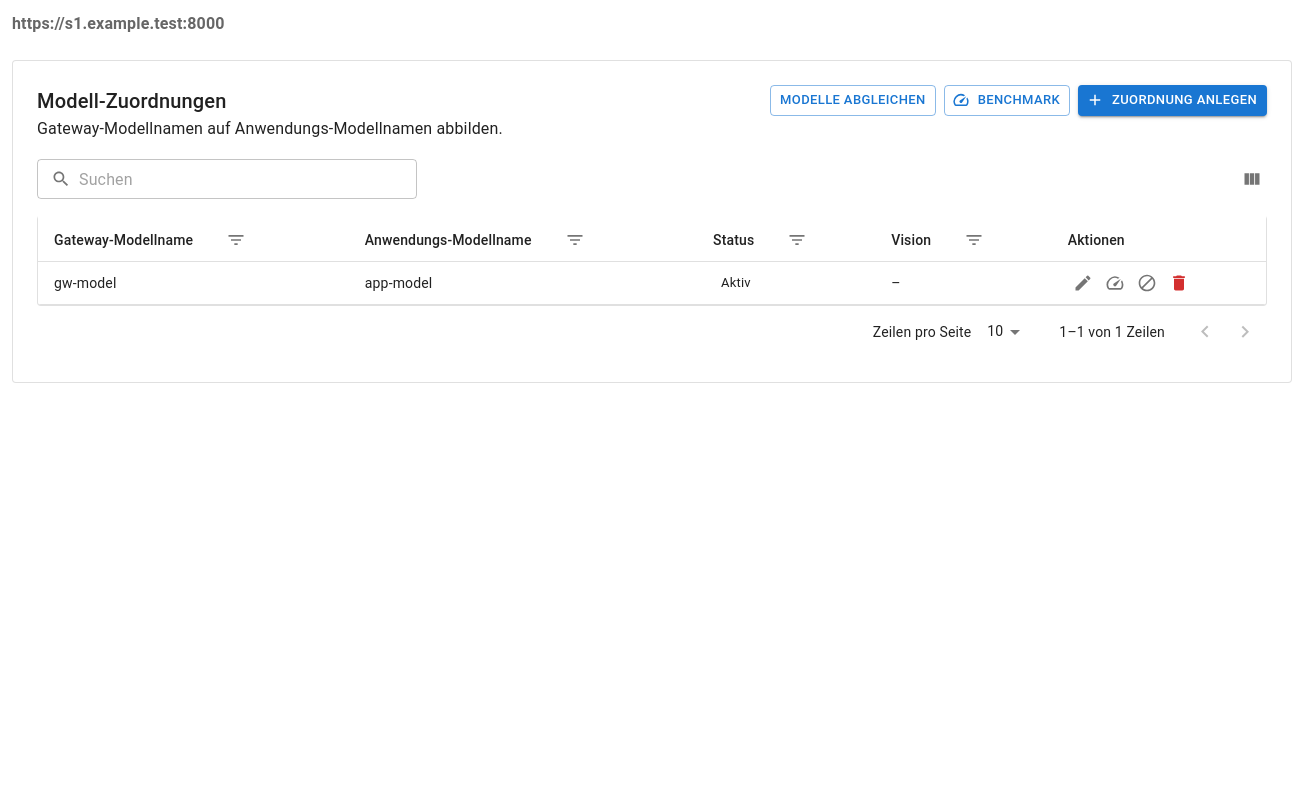
Test: scopes the benchmark area to the mapping's own application, not the server's first
Expected: the text "gw-model" is shown, [38,262,349,304]
Click the button named "Benchmark": click(1115, 283) [1100,268,1130,298]
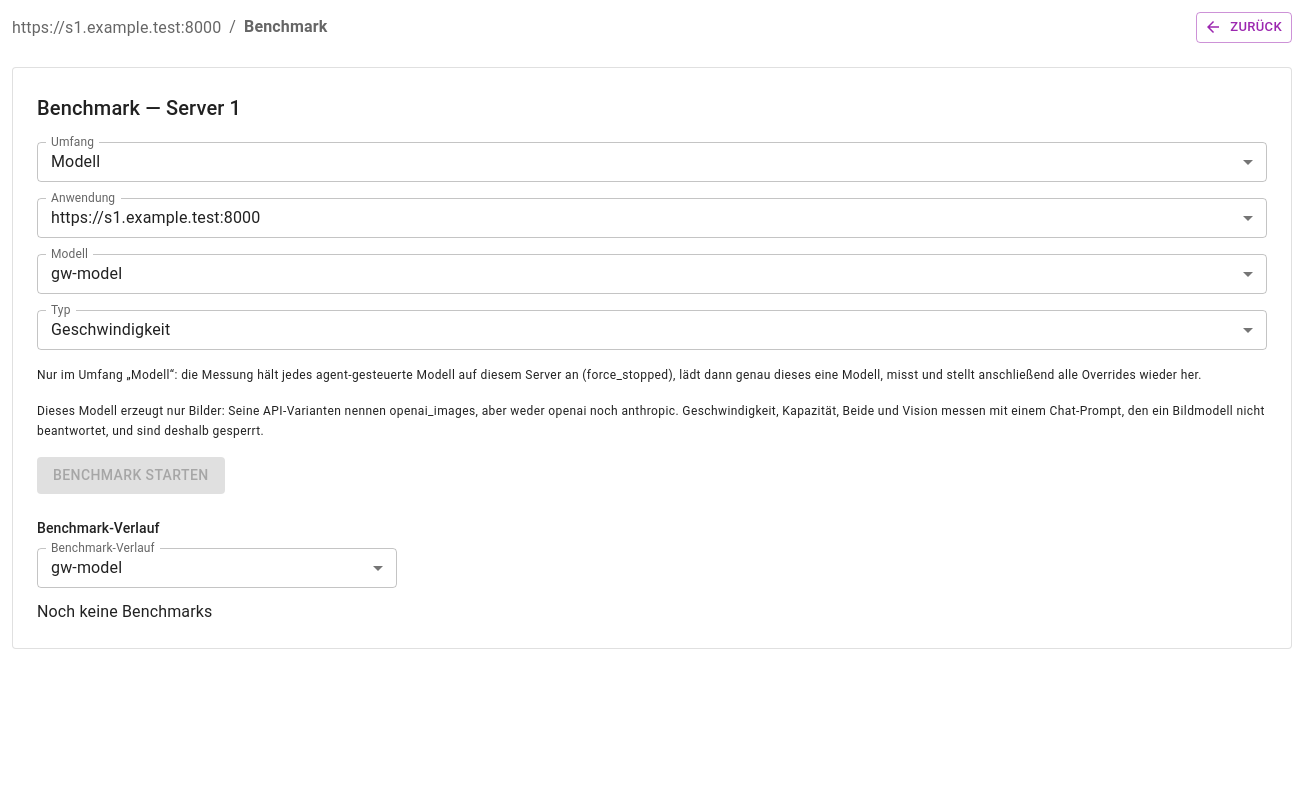
Expected: the button "Benchmark starten" is disabled, [37,458,225,494]
